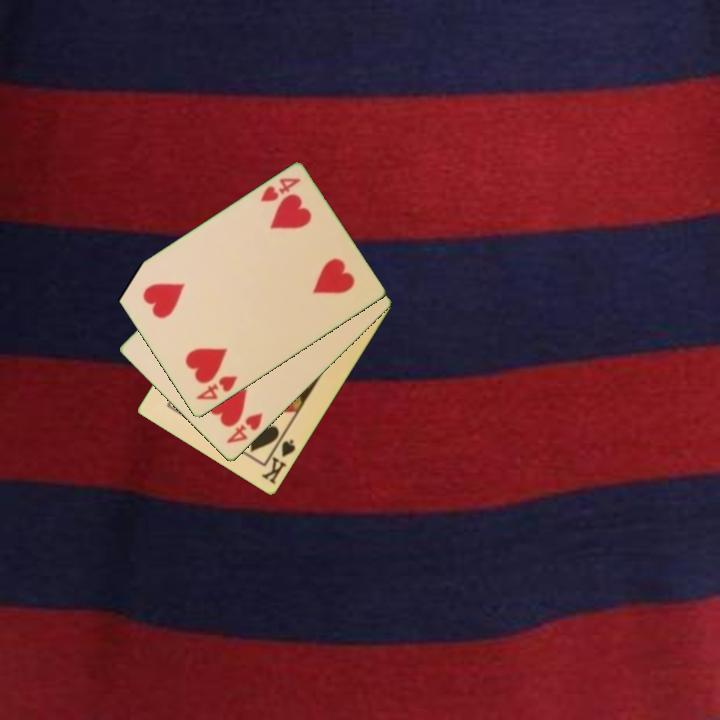4h: (223, 409, 266, 447), (193, 372, 240, 403), (256, 175, 303, 205)
Ks: (258, 432, 299, 488)
